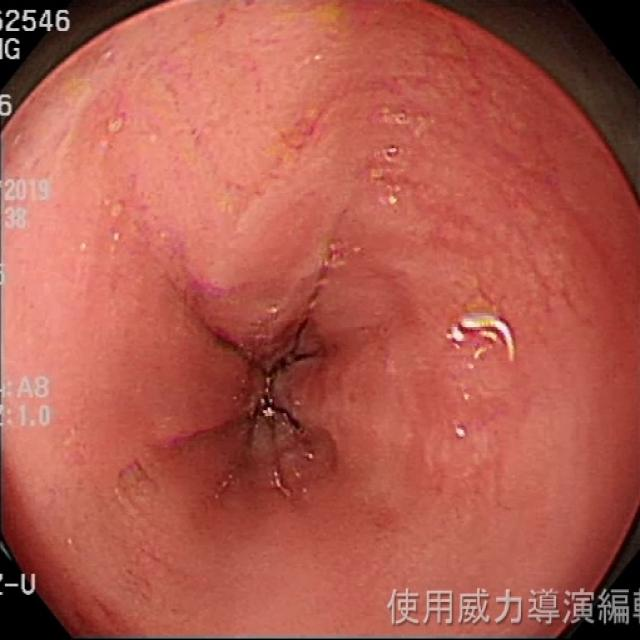I: (151, 265, 383, 528)
S: (388, 588, 640, 629), (3, 8, 73, 35), (3, 375, 53, 402), (2, 179, 51, 204), (2, 403, 51, 428), (3, 572, 38, 599), (2, 204, 29, 231), (3, 36, 23, 63), (2, 95, 14, 118)
U: (449, 306, 517, 364)
